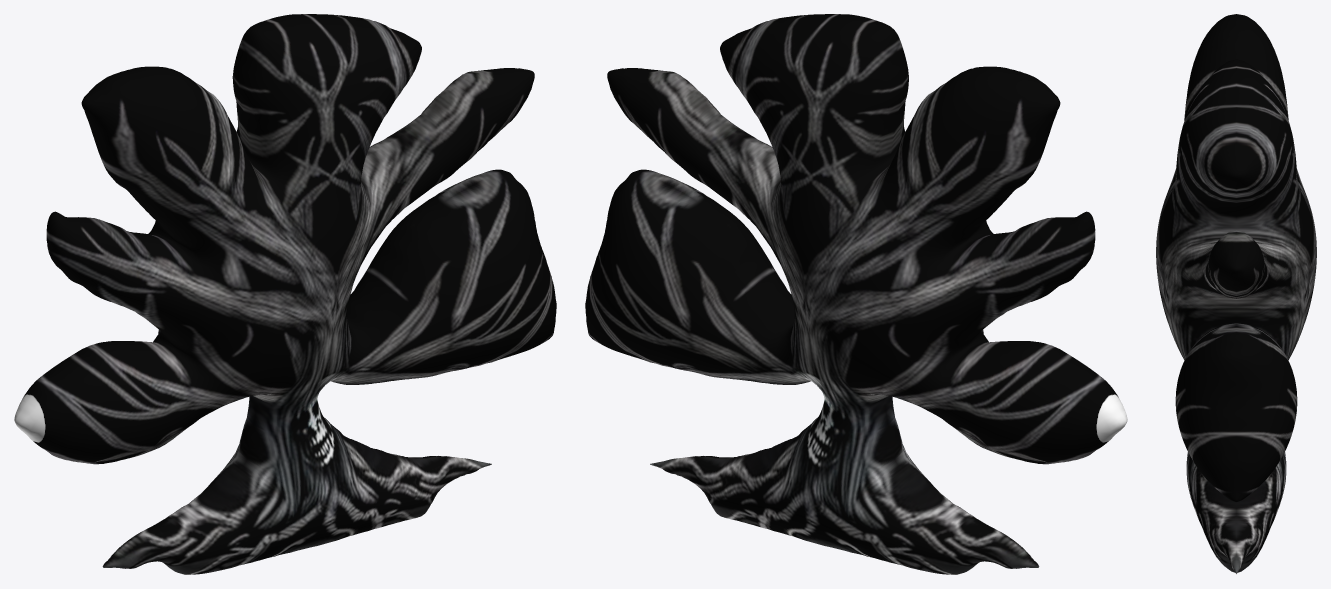
File: vacationtrees2.glb
3 renders of one model, left to right at view 1: azimuth 30°, elevation 25°; view 2: azimuth 150°, elevation 25°; view 3: azimuth 270°, elevation 25°, orthographic. The views are drawn at different scales.
Size of the model in its own units: 8.22 by 7.75 by 2.52.
Materials: 1 (1 with a texture image).
